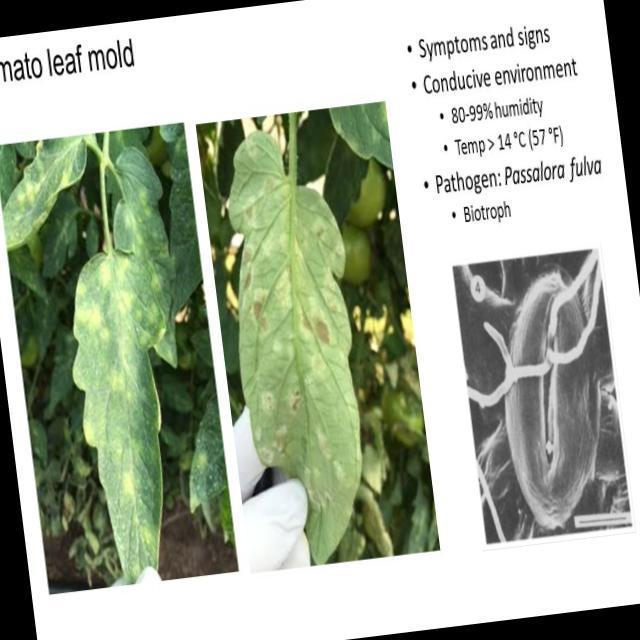Mosaic Virus: (222, 130, 368, 524), (66, 249, 182, 586), (108, 155, 186, 343), (0, 133, 97, 249)
